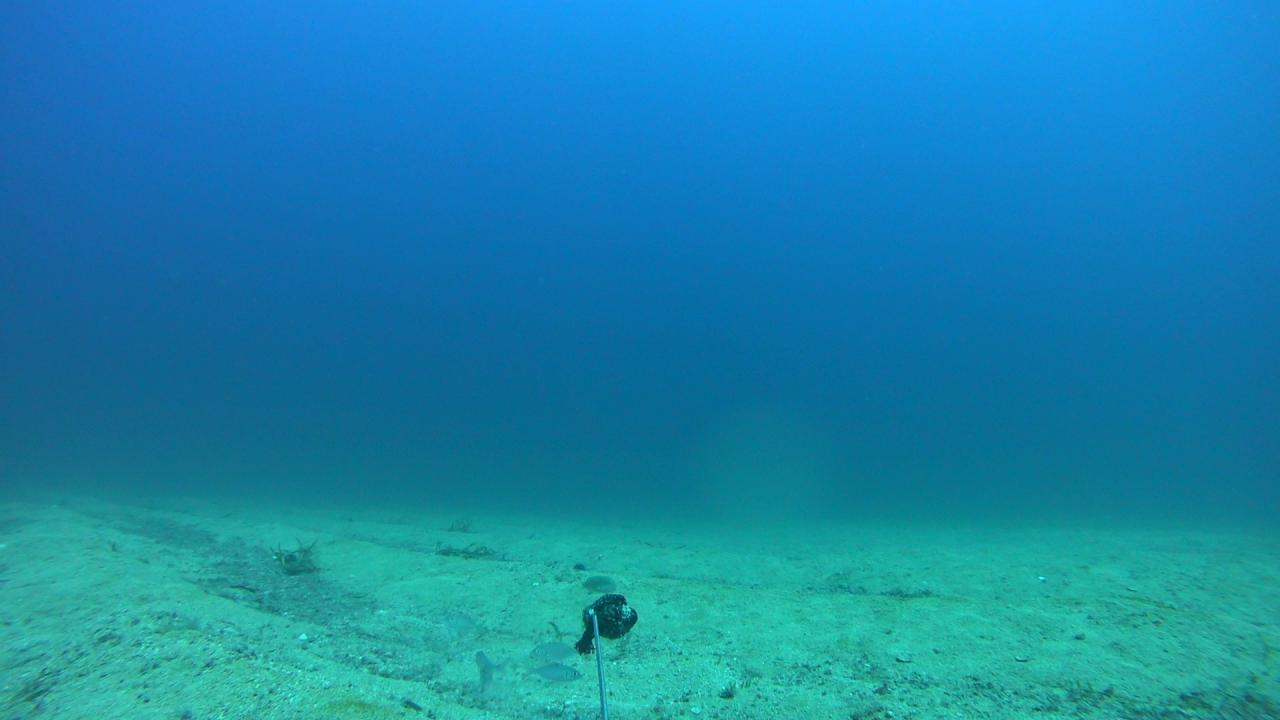pagellus: (519, 663, 584, 684), (527, 644, 585, 664)
